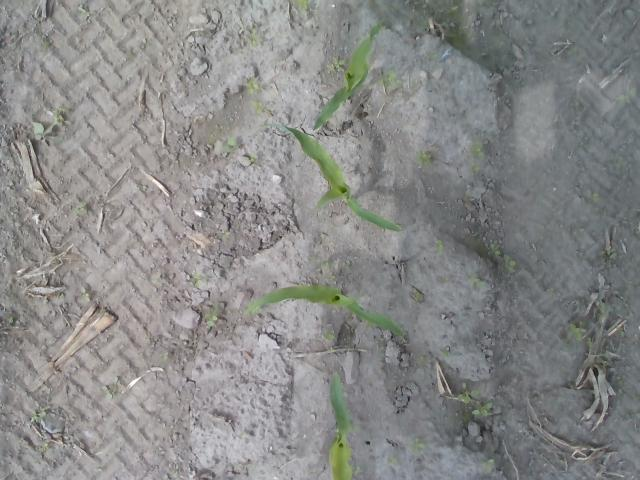Maize: (258, 114, 404, 232), (239, 283, 406, 343), (310, 19, 386, 131), (328, 371, 353, 480)
Weeds: (459, 387, 494, 417), (470, 140, 484, 174), (29, 122, 52, 141), (568, 322, 588, 342), (414, 149, 434, 165), (382, 72, 402, 88), (223, 135, 240, 153), (248, 98, 264, 114), (481, 456, 497, 472), (502, 256, 517, 272), (204, 312, 218, 328), (246, 80, 260, 96), (410, 437, 427, 450), (79, 286, 91, 304), (51, 115, 66, 129), (328, 56, 343, 70), (101, 384, 114, 400), (586, 190, 600, 204), (486, 243, 501, 256), (294, 0, 312, 10), (31, 409, 46, 420), (467, 276, 480, 288), (321, 331, 336, 341), (433, 240, 442, 255), (192, 274, 202, 287), (320, 260, 334, 268), (442, 350, 451, 362), (387, 456, 398, 464), (250, 154, 258, 162)
